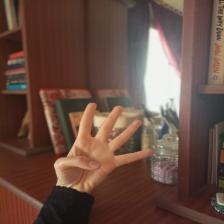four: (41, 95, 161, 193)
